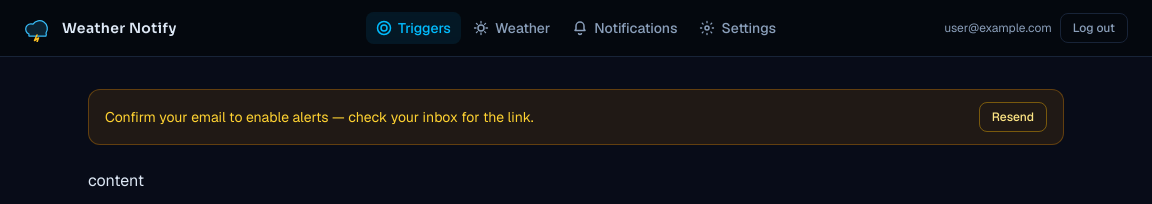
Test: AppShell › email verification banner › resends and reports what happened
Click the button "Resend" at (1013,117), box 979,102 -> 1047,132
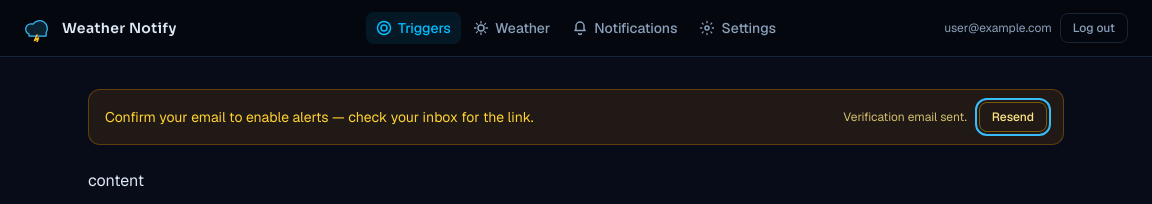
Result: the text "Verification email sent." is shown at 843,109 -> 967,125
